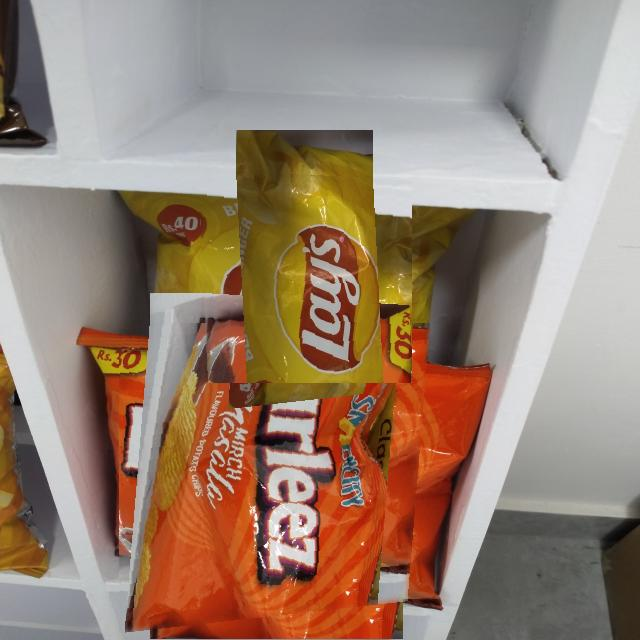Plastic: (119, 323, 433, 636), (197, 168, 412, 383)
